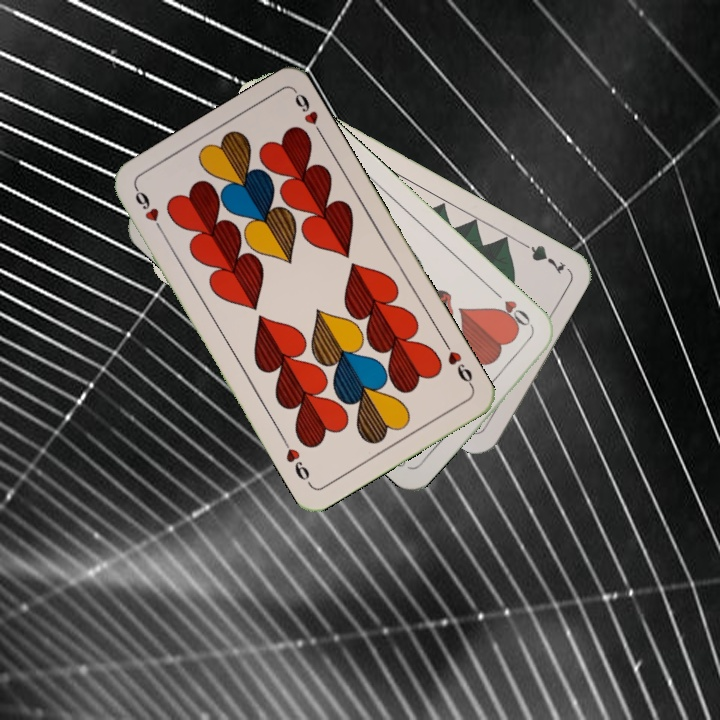G7: (515, 237, 568, 278)
H9: (130, 184, 168, 238), (440, 337, 476, 391)
HO: (489, 286, 536, 333)
